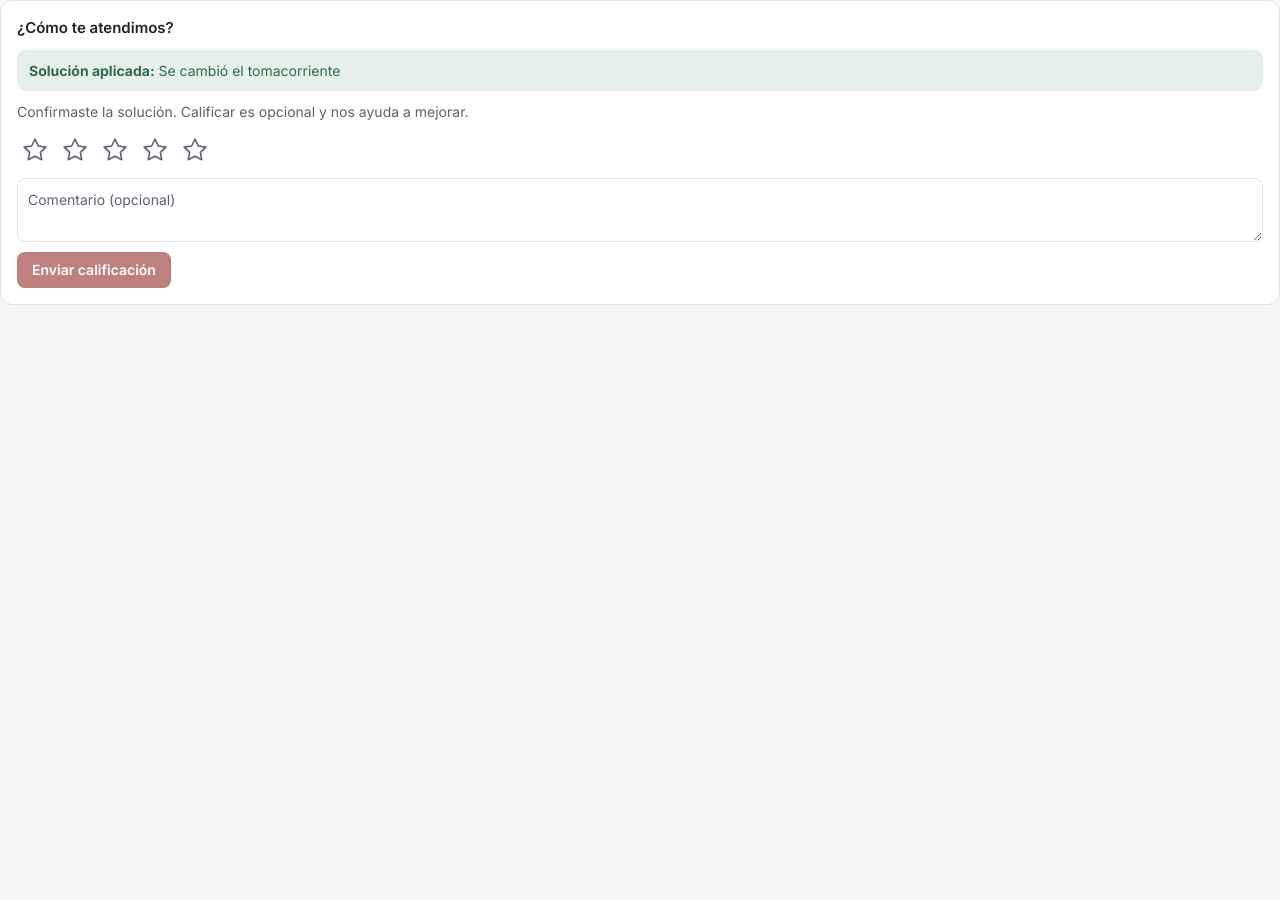
SatisfactionPanel: solicitud cerrada › sin calificación, el solicitante puede calificar después
Expected: the button "Enviar calificación" is disabled, [17, 252, 171, 288]
Click the radio button named "5 estrellas": (195, 150) [177, 132, 213, 168]
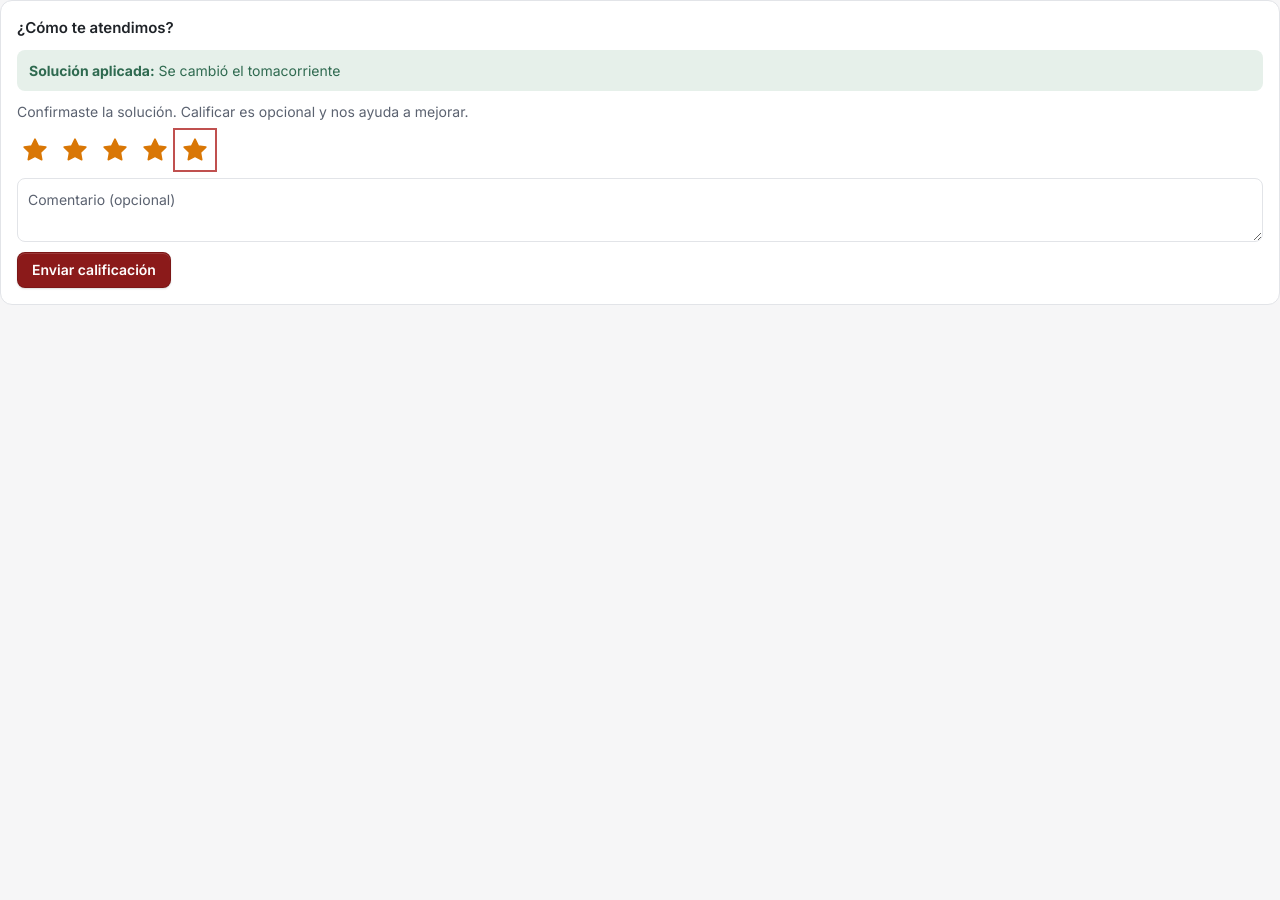
Click the button "Enviar calificación": (94, 270) [17, 252, 171, 288]
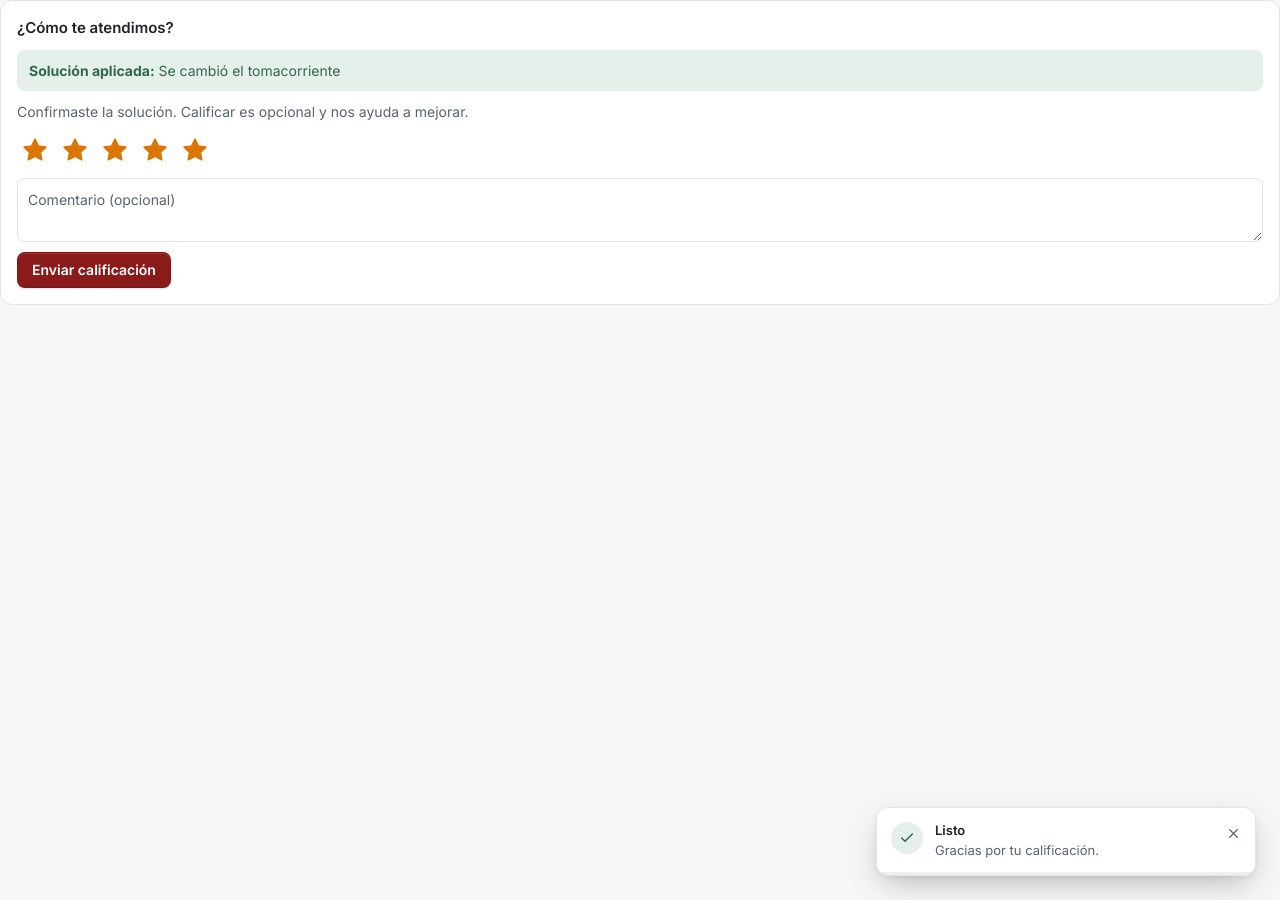
Expected: the text "Gracias por tu calificación." is shown, [935, 842, 1099, 858]
